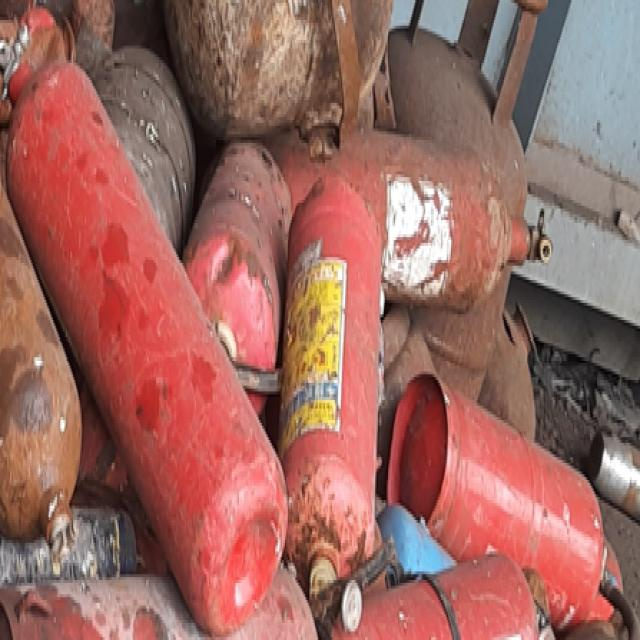cylinder: (0, 24, 287, 637)
